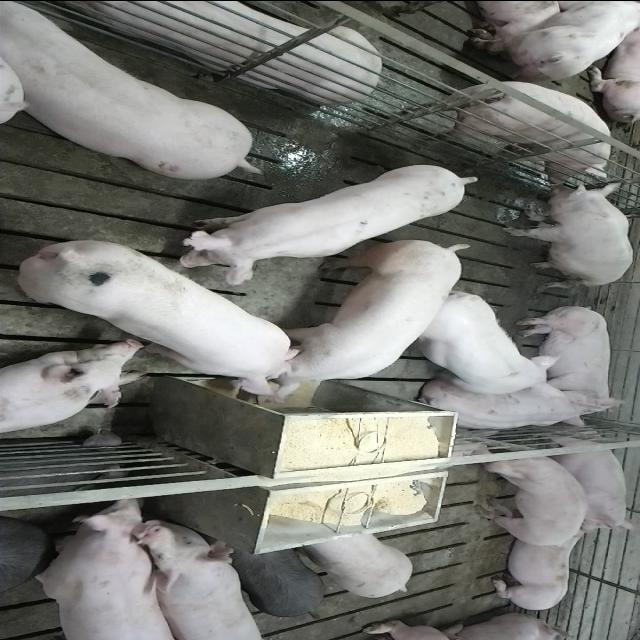Feeding: (16, 236, 302, 400), (255, 232, 476, 400)
Lateral_lying: (512, 302, 628, 418)
Sitting: (501, 180, 634, 286)
Standing: (0, 7, 258, 182), (174, 159, 478, 279), (22, 499, 194, 638), (408, 82, 612, 184), (128, 516, 272, 636), (404, 290, 562, 395), (468, 0, 638, 77), (468, 446, 590, 550), (212, 540, 324, 618), (298, 531, 413, 597), (0, 517, 48, 607)
Sternal_lying: (39, 0, 380, 100), (0, 344, 148, 436), (406, 380, 610, 434), (543, 436, 635, 538), (486, 526, 592, 612)
